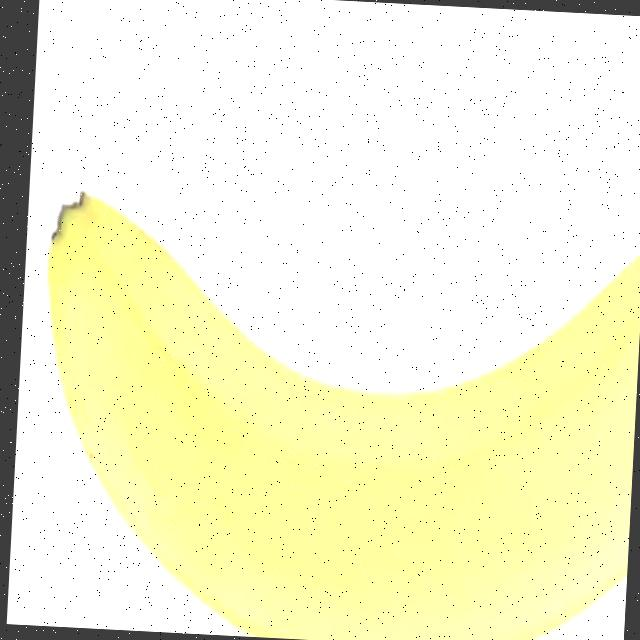Ripe: (28, 43, 640, 640)
